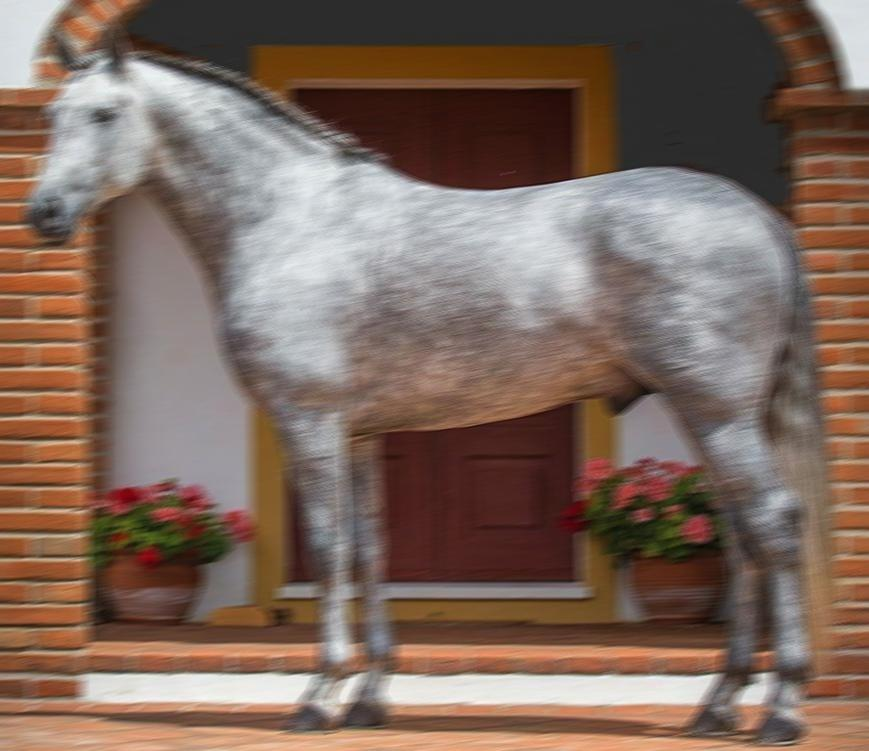horse: (22, 20, 840, 744)
